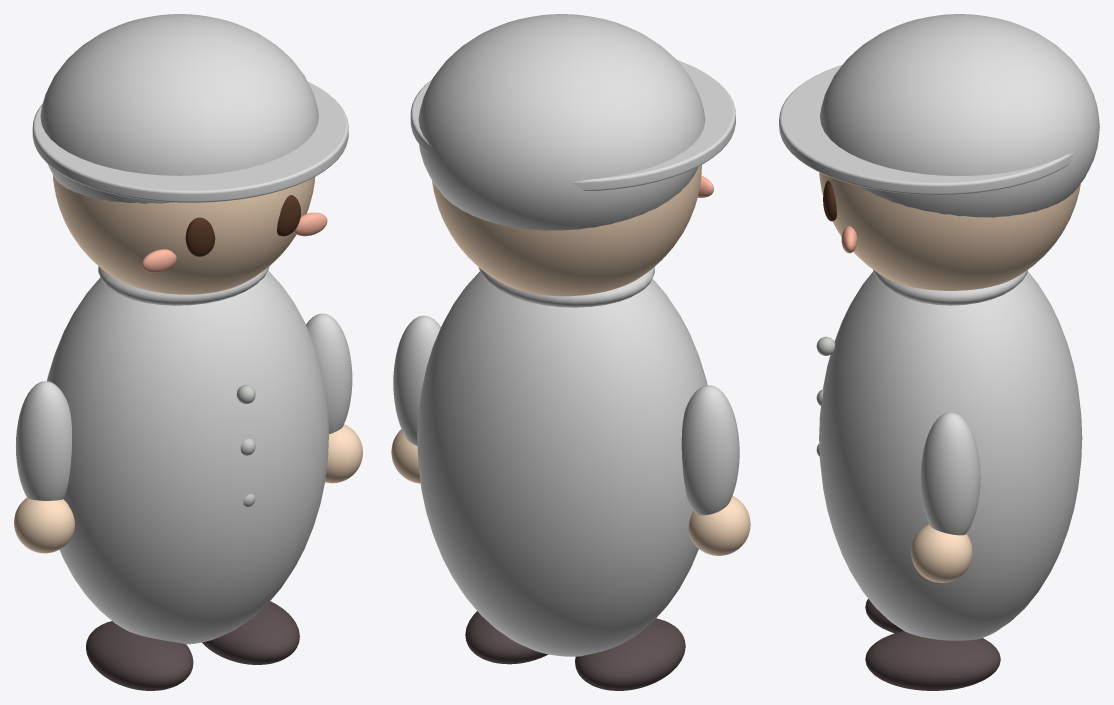
The model's file is npc.glb.
3 views of the same model, side by side, from view 1: azimuth 30°, elevation 25°; view 2: azimuth 150°, elevation 25°; view 3: azimuth 270°, elevation 25° (orthographic). The views are drawn at different scales.
Visible parts, largest first — view 1: npc_body, npc_hat, npc_head_mesh, npc_hat_brim, npc_armL, npc_footL, npc_footR, npc_armR, npc_handL, npc_collar, npc_handR, npc_eyeL (+3 smaller); view 2: npc_body, npc_hat, npc_head_mesh, npc_armL, npc_hat_brim, npc_footL, npc_armR, npc_handL, npc_footR, npc_collar, npc_handR; view 3: npc_body, npc_hat, npc_head_mesh, npc_hat_brim, npc_footR, npc_armR, npc_handR, npc_collar.
Boxes of the visible parts, x1=… form: npc_body: x1=47, y1=270, x2=328, y2=644; npc_hat: x1=40, y1=14, x2=318, y2=203; npc_head_mesh: x1=52, y1=174, x2=314, y2=294; npc_hat_brim: x1=32, y1=81, x2=348, y2=202; npc_armL: x1=15, y1=381, x2=71, y2=500; npc_footL: x1=86, y1=621, x2=193, y2=690; npc_footR: x1=202, y1=601, x2=299, y2=664; npc_armR: x1=306, y1=313, x2=352, y2=433; npc_handL: x1=14, y1=498, x2=74, y2=553; npc_collar: x1=98, y1=266, x2=269, y2=305; npc_handR: x1=325, y1=424, x2=362, y2=483; npc_eyeL: x1=185, y1=217, x2=215, y2=256; npc_body: x1=417, y1=271, x2=707, y2=656; npc_hat: x1=418, y1=14, x2=705, y2=230; npc_head_mesh: x1=432, y1=165, x2=701, y2=296; npc_armL: x1=681, y1=385, x2=739, y2=515; npc_hat_brim: x1=410, y1=60, x2=735, y2=190; npc_footL: x1=575, y1=618, x2=685, y2=690; npc_armR: x1=393, y1=315, x2=440, y2=445; npc_handL: x1=688, y1=496, x2=750, y2=555; npc_footR: x1=465, y1=611, x2=548, y2=664; npc_collar: x1=478, y1=267, x2=654, y2=307; npc_handR: x1=391, y1=429, x2=420, y2=483; npc_body: x1=819, y1=271, x2=1082, y2=640; npc_hat: x1=820, y1=14, x2=1099, y2=217; npc_head_mesh: x1=819, y1=172, x2=1080, y2=290; npc_hat_brim: x1=779, y1=65, x2=1075, y2=194; npc_footR: x1=865, y1=631, x2=1000, y2=690; npc_armR: x1=920, y1=412, x2=980, y2=535; npc_handR: x1=911, y1=524, x2=972, y2=582; npc_collar: x1=873, y1=269, x2=1027, y2=305.
Bounding box in the file's own units: 0.896 × 1.57 × 0.7293.
